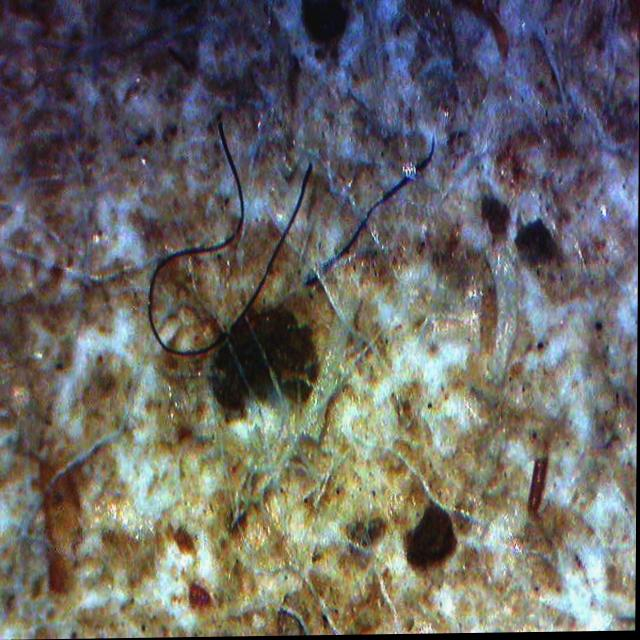microplastic: (126, 123, 319, 377), (302, 139, 444, 292)
